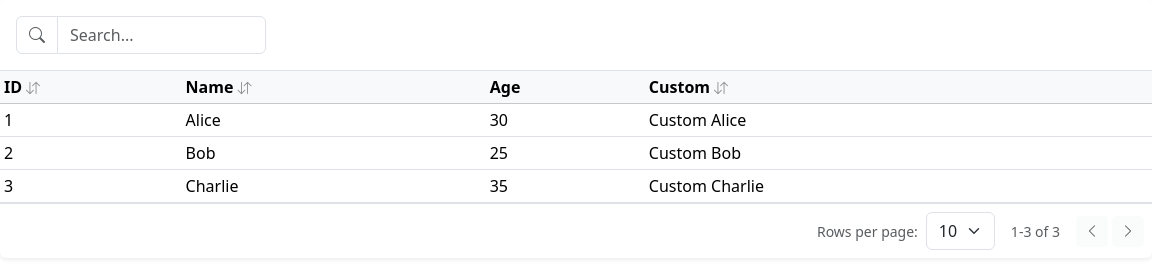
Test: DataTable Component › handles searching data
Type "Ali" into the field with placeholder "Search..." at coordinates (162, 35), box x1=57 y1=16 x2=266 y2=54
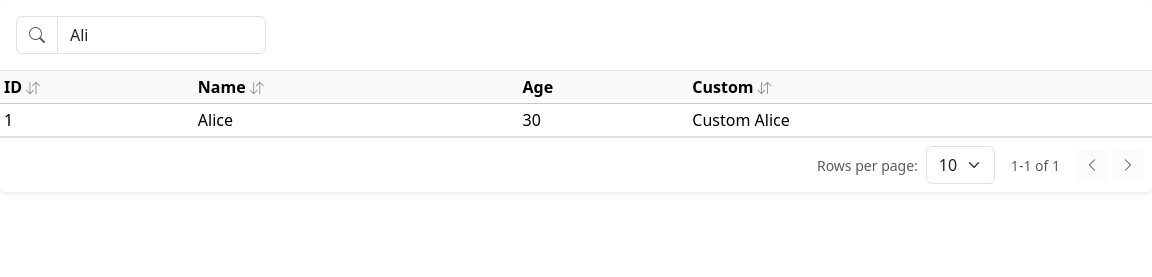
Expected: the text "Alice" is shown, x1=194 y1=104 x2=518 y2=136
Expected: the text "Bob" is gone
